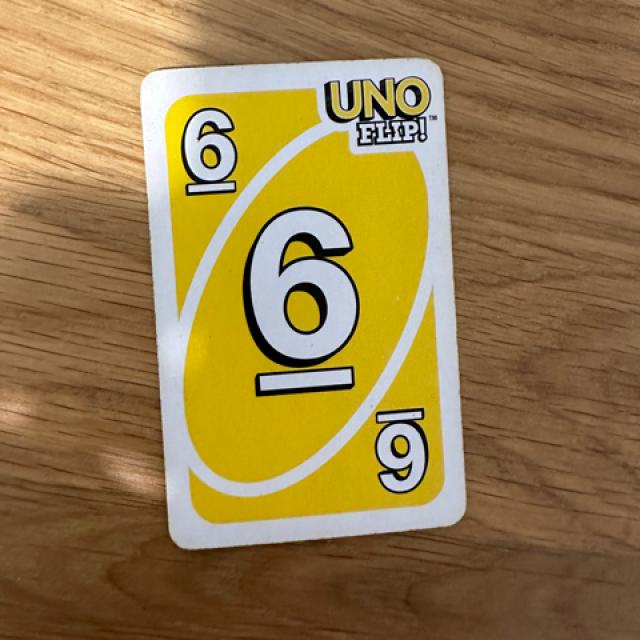lyellow-6: (160, 87, 257, 201)
